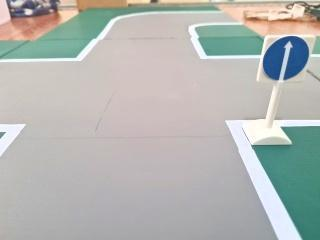straight: (260, 27, 312, 90)
